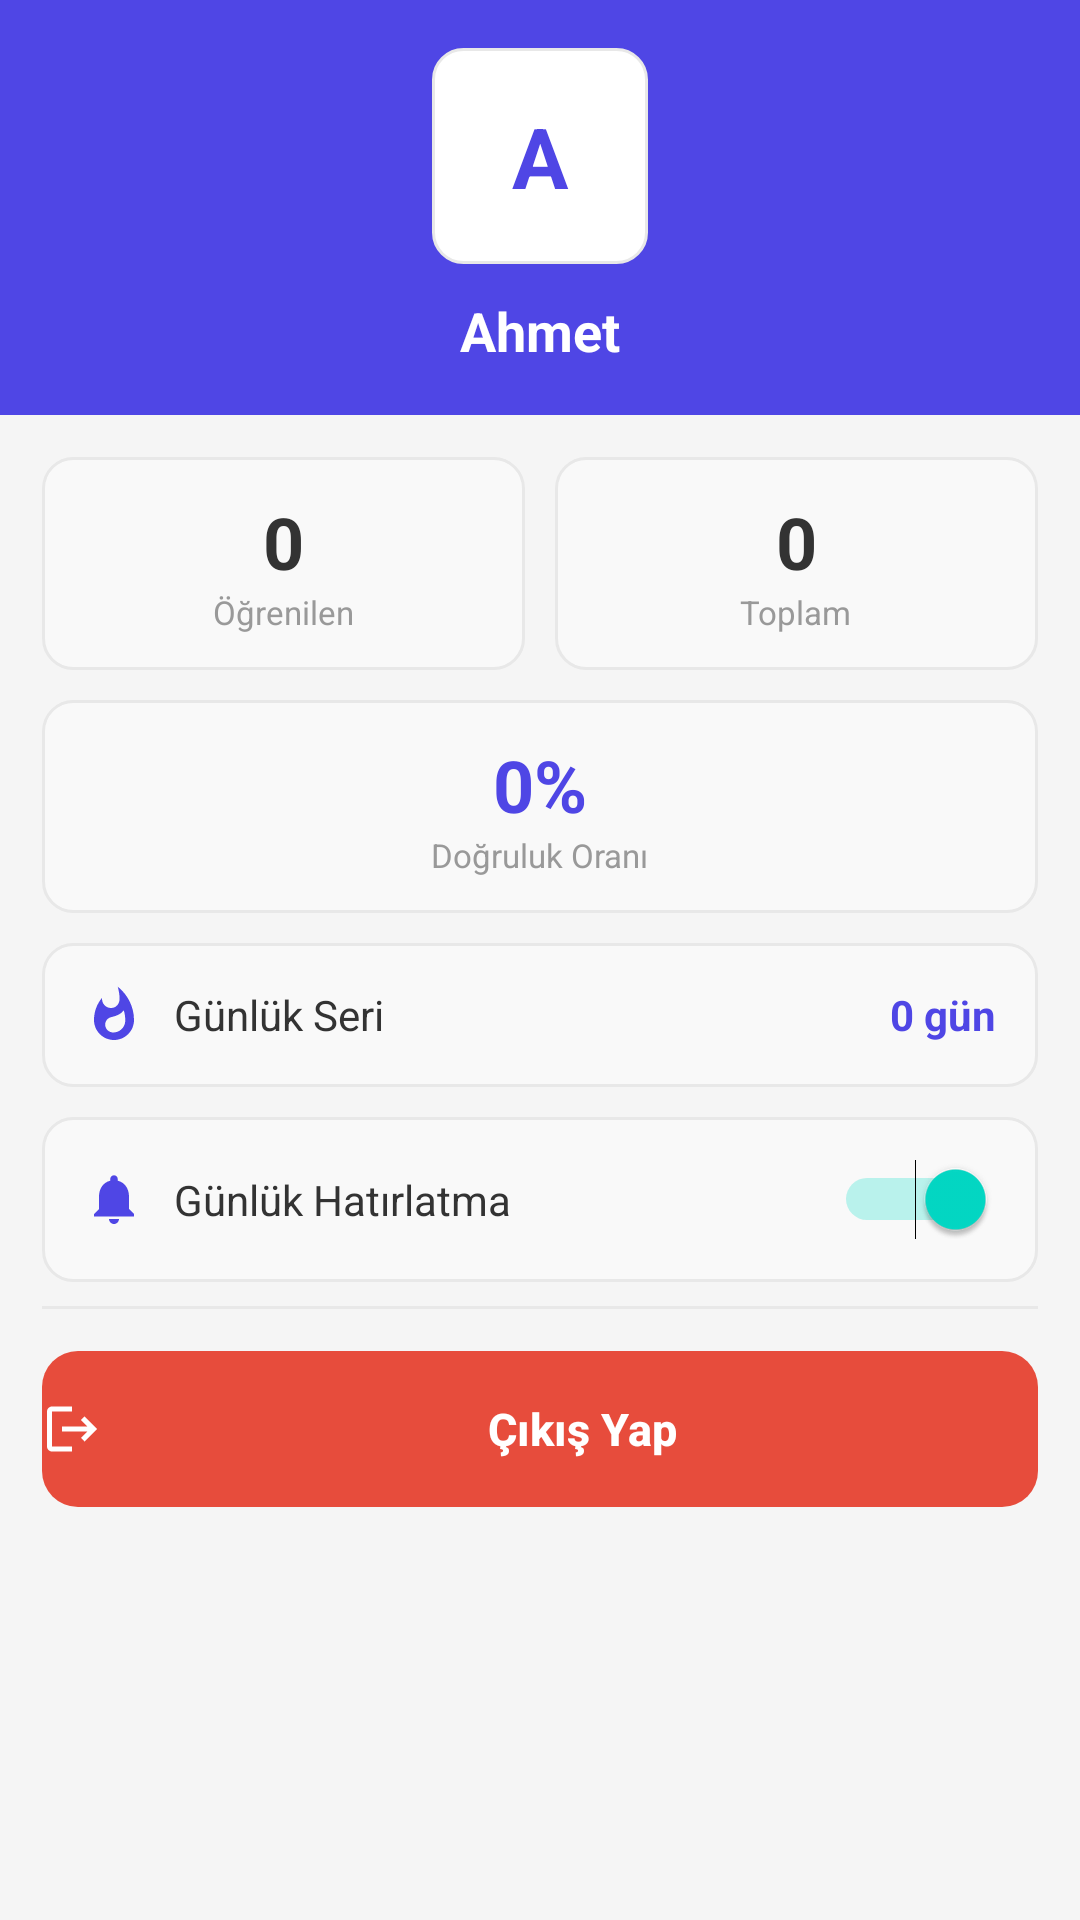

Where icons sit on this 1080w x 1920h app screen, as (x1, y1, x2, y2):
Bildirim: (94, 1175, 134, 1224)
Streak: (94, 987, 134, 1040)
